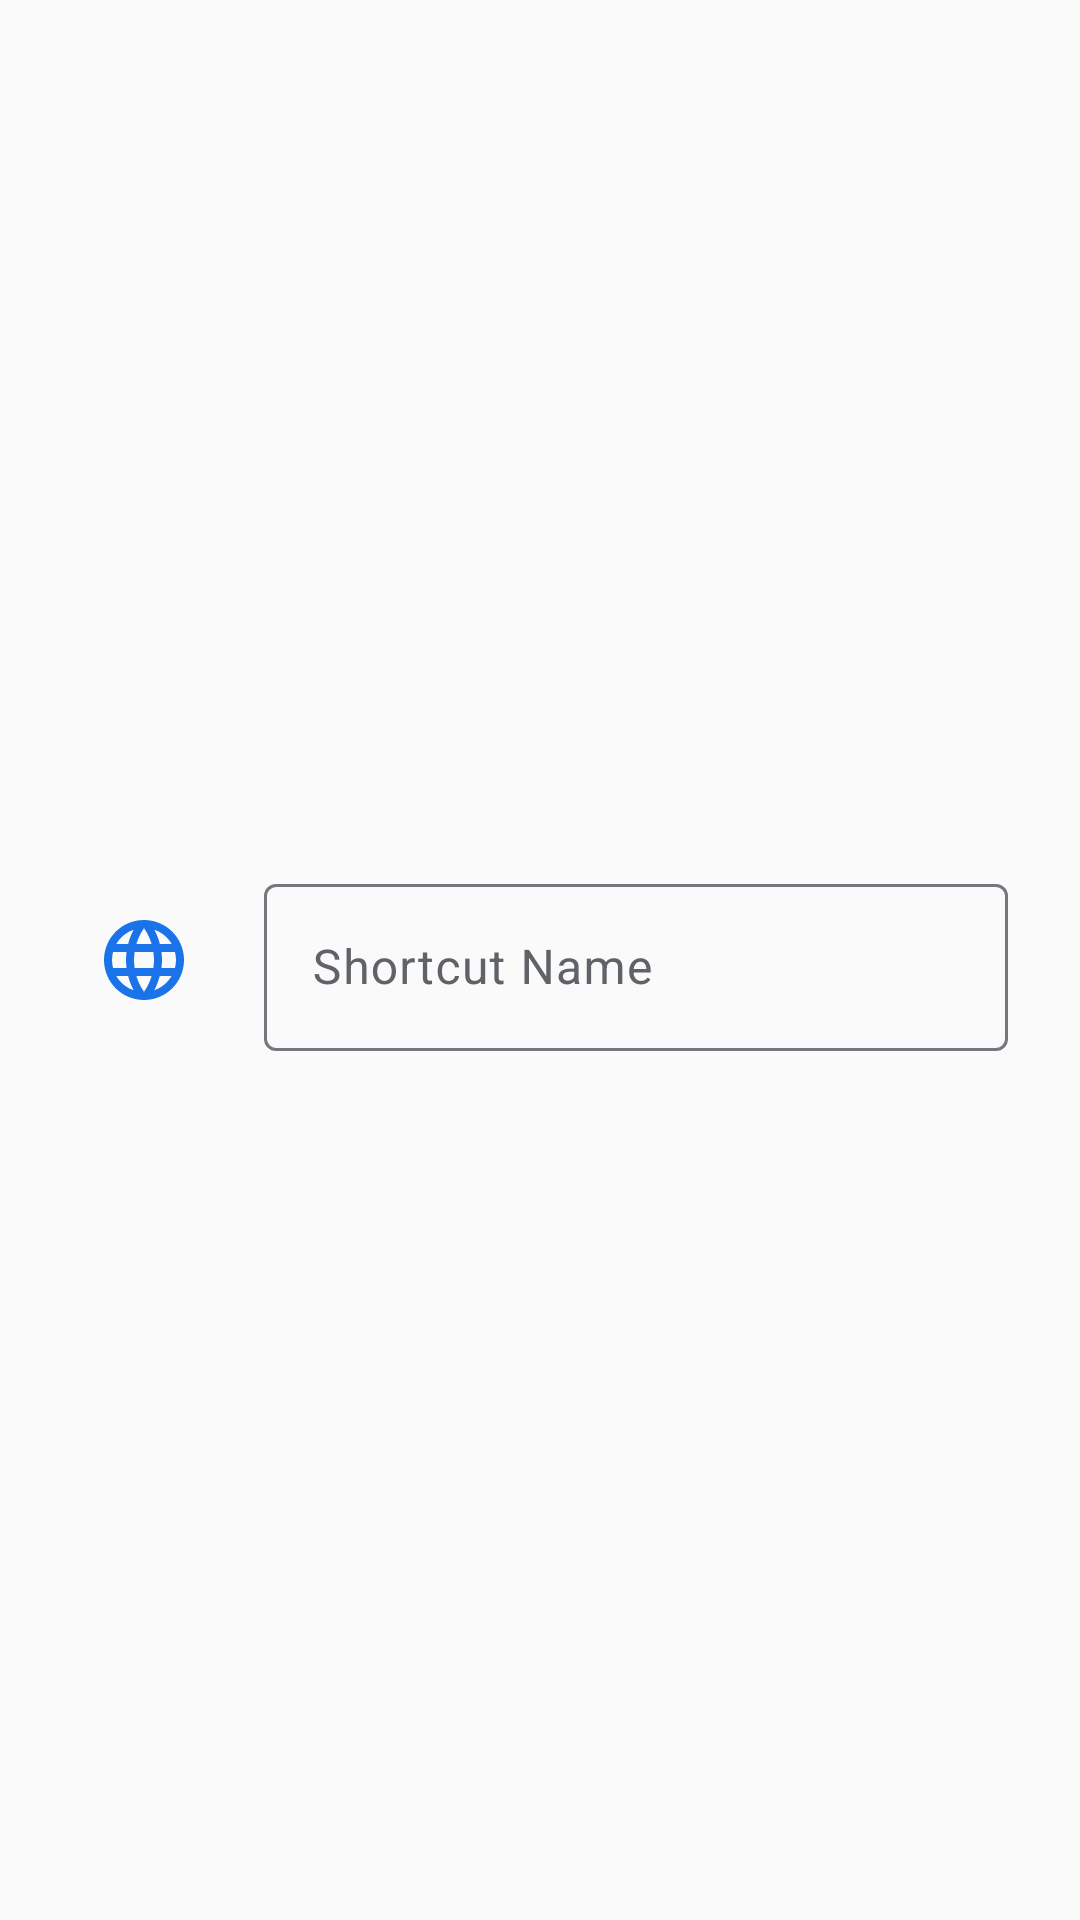

Screen size 1080px x 1920px. Icon name, then its center in pixels as (x=x, y=y):
globe: (x=144, y=960)
